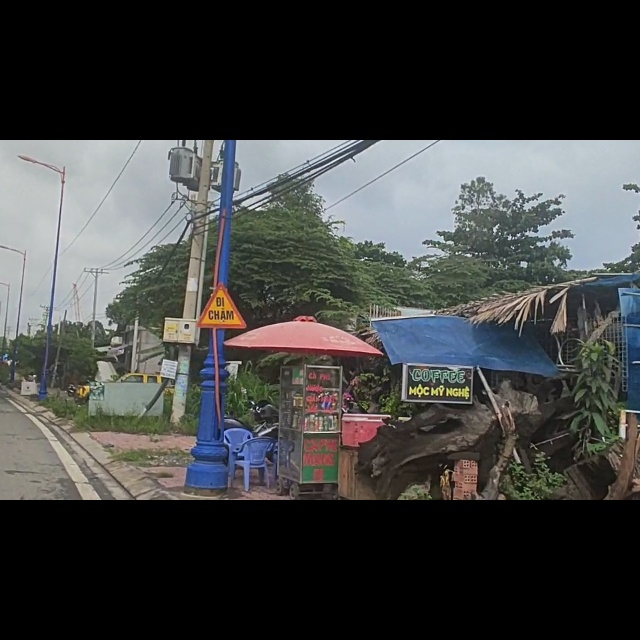bien_nguy_hiem: (195, 254, 247, 339)
